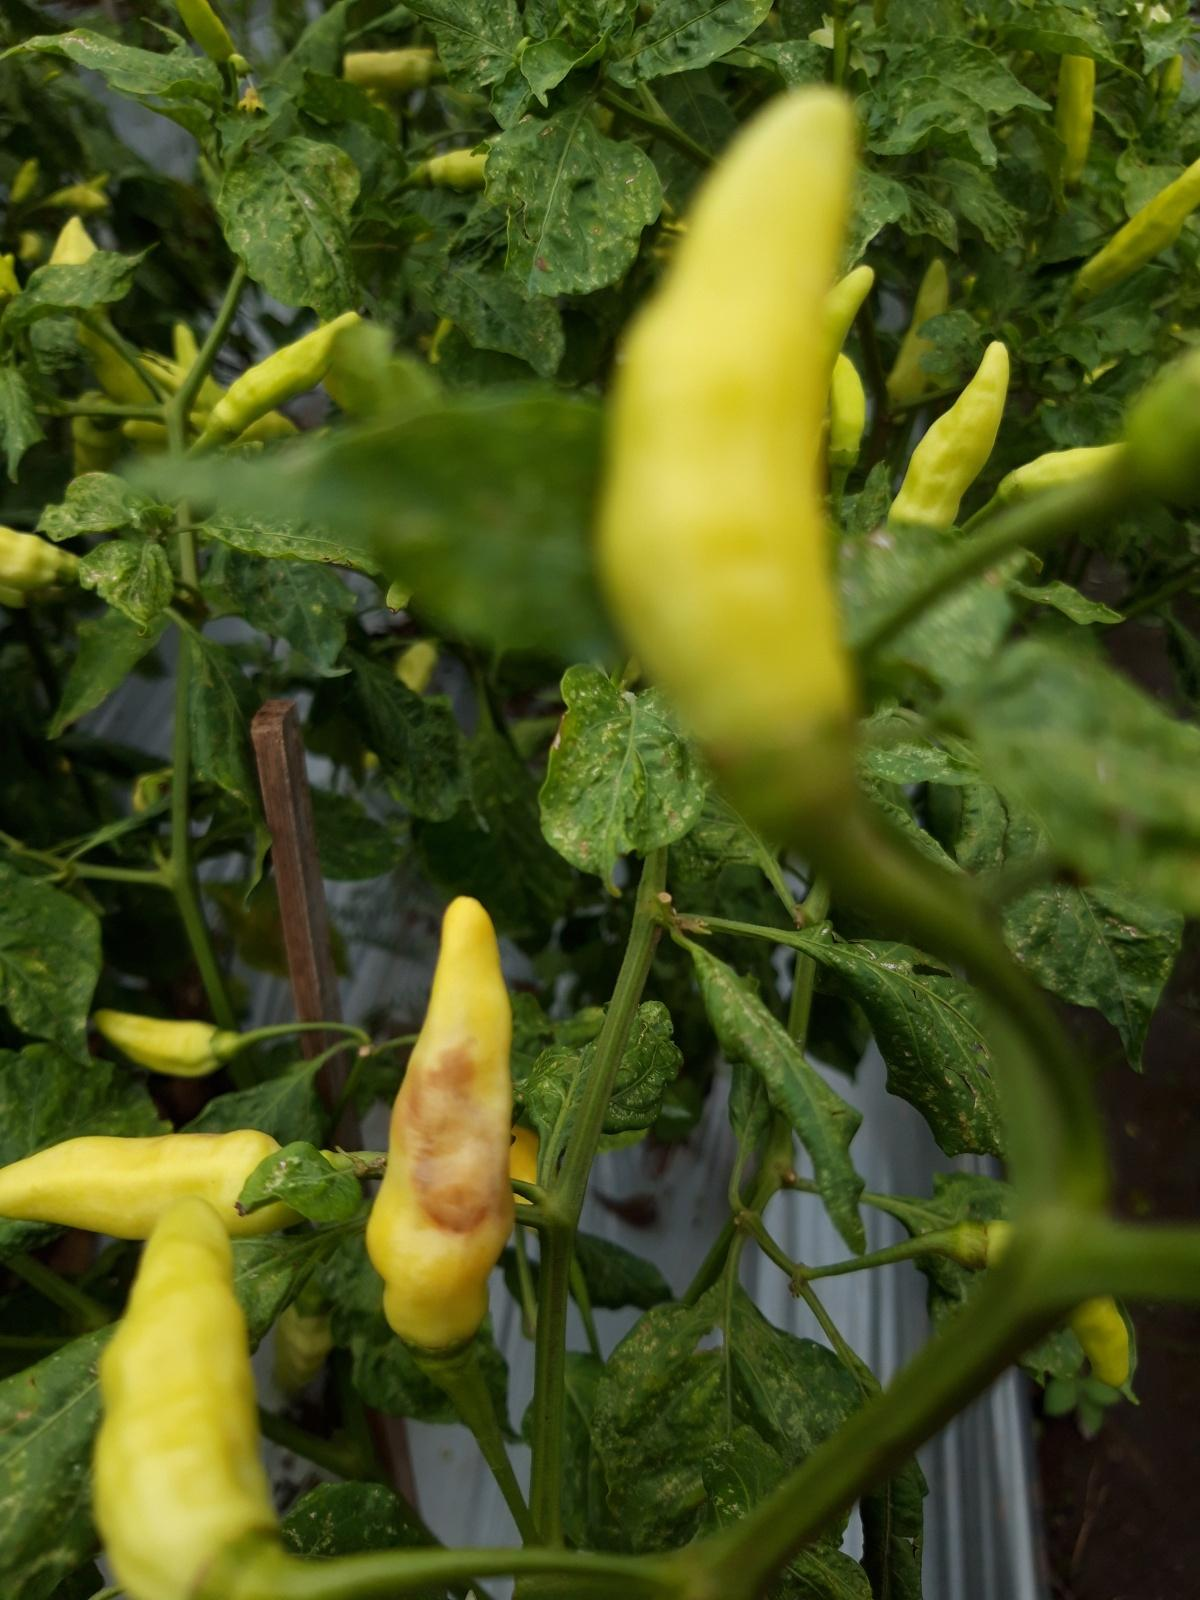cabai_normal: (592, 79, 875, 804), (88, 1196, 286, 1600), (3, 1128, 304, 1232), (887, 340, 1011, 533), (1069, 149, 1200, 295), (212, 312, 364, 427), (885, 258, 949, 428), (97, 1004, 234, 1080), (997, 443, 1127, 501), (1055, 52, 1095, 189), (828, 353, 867, 454)
lalat_buah: (366, 893, 519, 1351)
